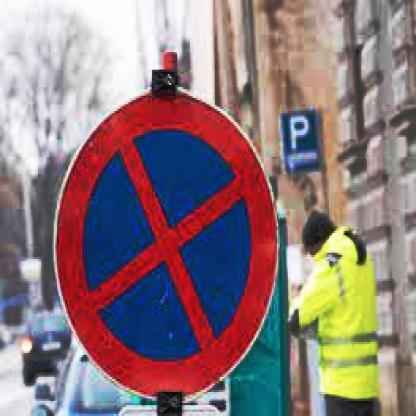No stopping: (56, 92, 278, 403)
